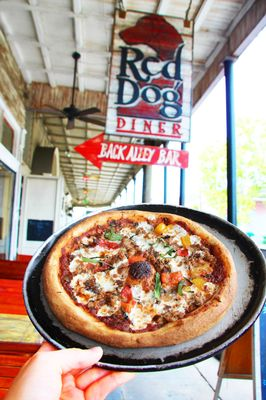sandwich: (41, 210, 236, 349)
